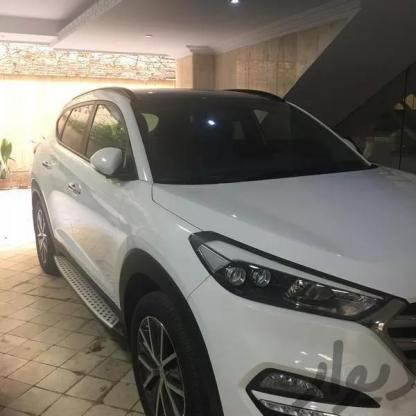Car: (25, 88, 416, 416)
